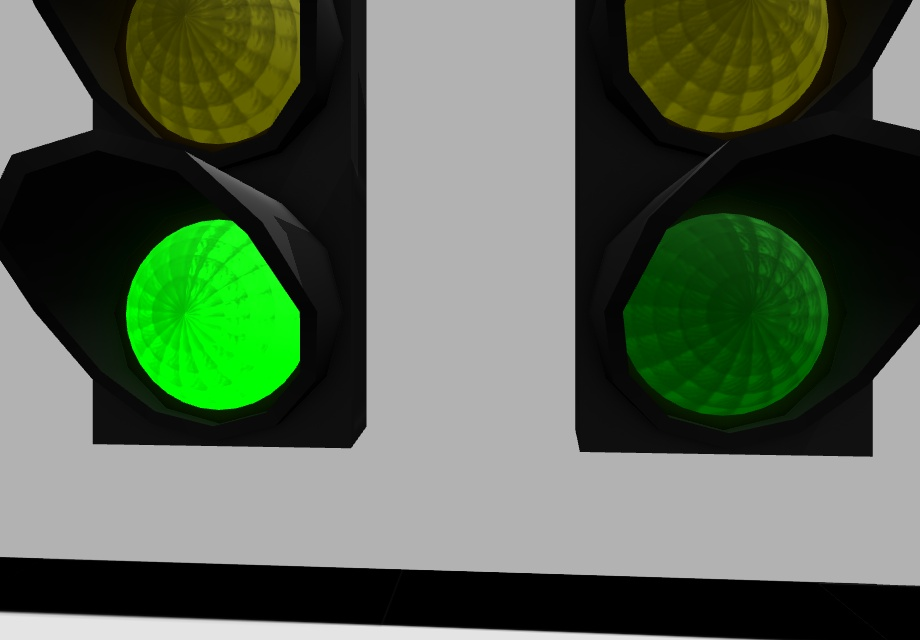green_off: (601, 216, 858, 412)
green_on: (113, 210, 327, 412)
